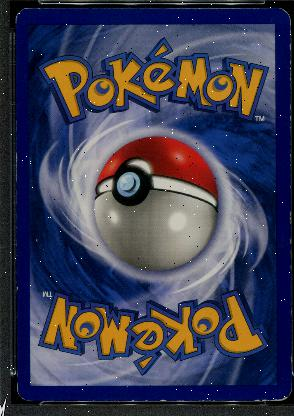Card: (12, 1, 292, 402)
Corner Wear: (272, 4, 291, 34), (267, 382, 291, 402), (14, 382, 33, 402), (14, 7, 31, 25)
Edge Wear: (288, 102, 290, 192), (287, 41, 289, 93), (15, 212, 16, 276), (158, 399, 189, 401), (288, 248, 290, 272), (289, 304, 291, 326), (288, 352, 290, 372), (288, 210, 290, 228), (15, 150, 16, 184), (252, 399, 268, 401), (16, 304, 17, 327), (197, 400, 219, 401), (288, 238, 290, 247), (15, 188, 16, 206), (15, 119, 16, 133), (16, 280, 17, 292), (143, 399, 149, 401), (16, 370, 17, 378), (129, 400, 135, 401)
